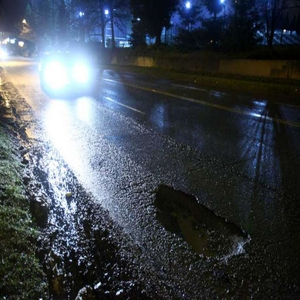pothole: (149, 181, 255, 268)
